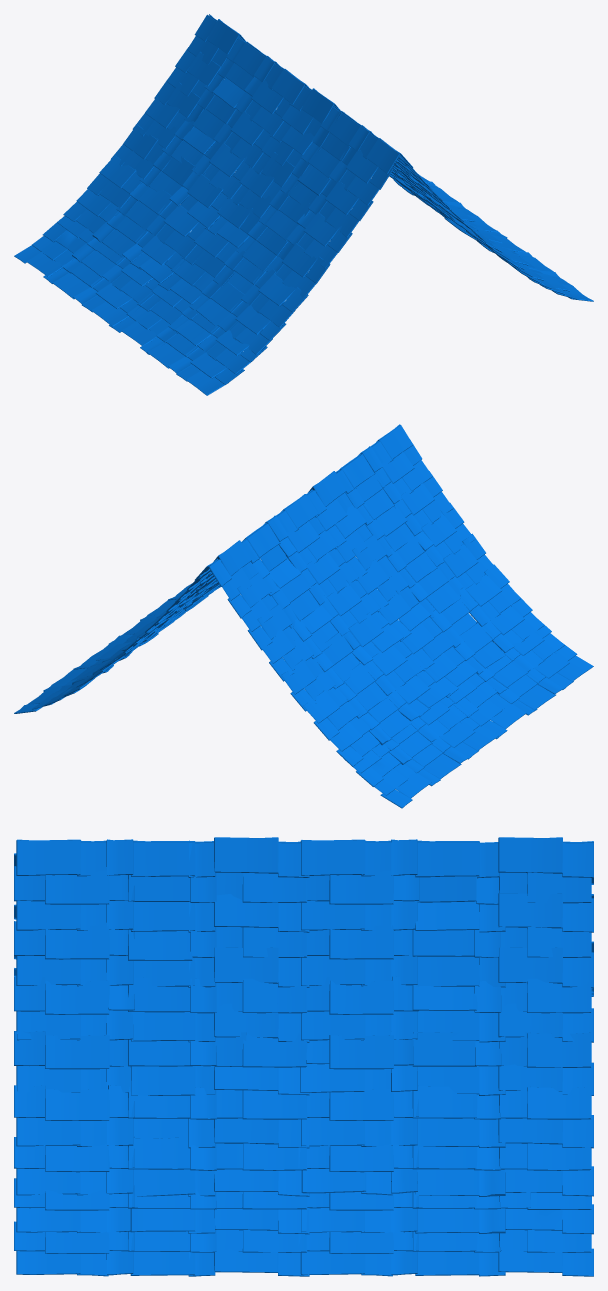
The model's file is mod_teules.fbx.
3 views of the same model, one above another, from view 1: azimuth 30°, elevation 25°; view 2: azimuth 150°, elevation 25°; view 3: azimuth 270°, elevation 25° (orthographic). The views are drawn at different scales.
Parts seen in each view (by area): view 1: Tejado_alta.001; view 2: Tejado_alta.001; view 3: Tejado_alta.001.
Boxes of the visible parts, x1,y1,x2,y2 form: Tejado_alta.001: [14, 14, 593, 395]; Tejado_alta.001: [14, 424, 593, 808]; Tejado_alta.001: [14, 837, 593, 1276].
Bounding box in the file's own units: 449 × 218 × 386.
